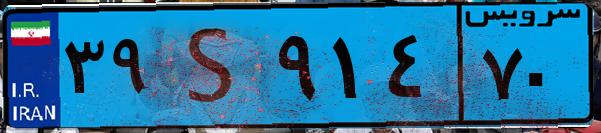0: (525, 38, 570, 115)
1: (330, 28, 385, 110)
3: (57, 26, 110, 100)
4: (385, 28, 445, 110)
7: (475, 38, 525, 113)
9: (270, 28, 330, 110), (110, 28, 158, 98)
S: (158, 12, 270, 120)
